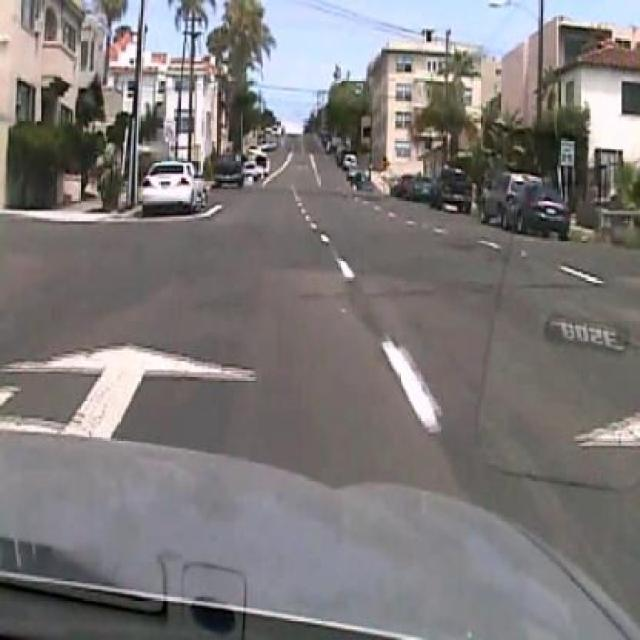speedLimit25: (558, 138, 576, 168)
